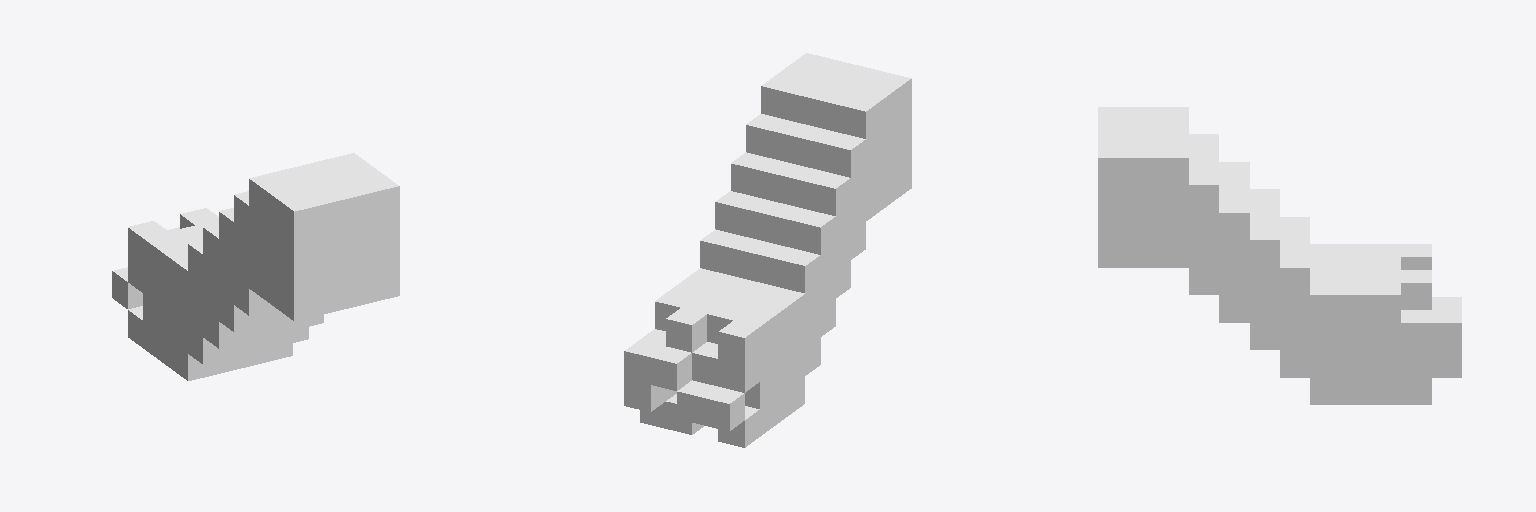
File: Tail_Тварь.obj
3 renders of one model, left to right at view 1: azimuth 30°, elevation 25°; view 2: azimuth 150°, elevation 25°; view 3: azimuth 270°, elevation 25°, orthographic.
Visible parts, largest first — view 1: object 1; view 2: object 1; view 3: object 1.
Part boxes in pixels (x1,y1,x2,y2): object 1: (112, 153, 399, 380); object 1: (624, 53, 911, 447); object 1: (1098, 107, 1461, 404).
Size of the model in its own units: 0.4 by 0.9 by 1.2.